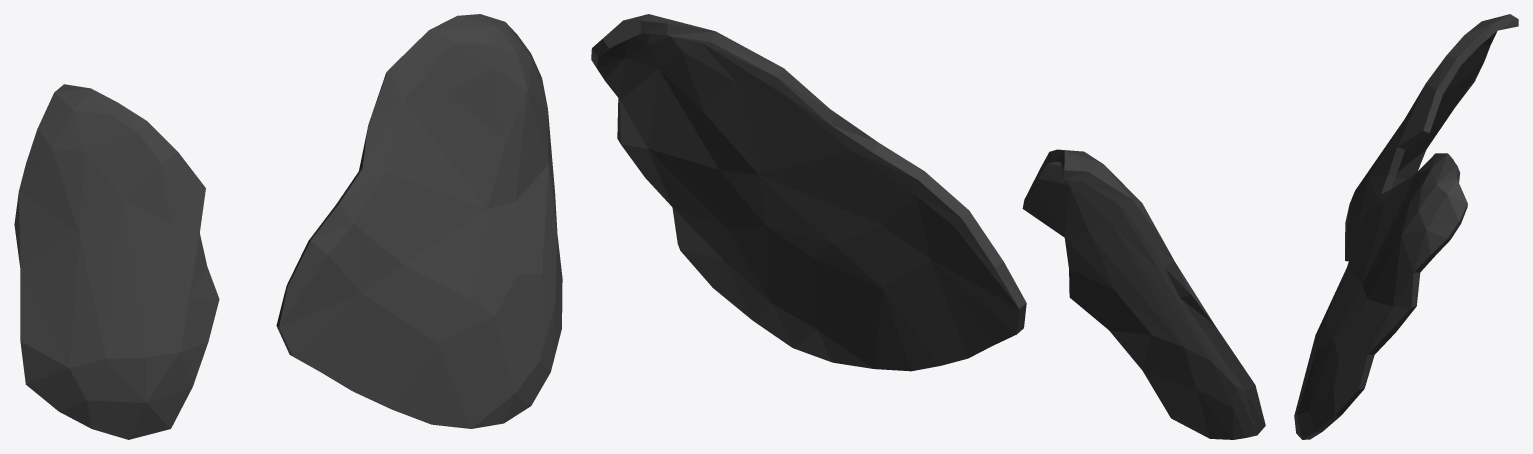
File: t6_cranial_articular_surface.glb
3 renders of one model, left to right at view 1: azimuth 30°, elevation 25°; view 2: azimuth 150°, elevation 25°; view 3: azimuth 270°, elevation 25°, orthographic. The views are drawn at different scales.
Visible parts, largest first — view 1: t6_cranial_articular_surface; view 2: t6_cranial_articular_surface; view 3: t6_cranial_articular_surface.
Boxes of the visible parts, x1,y1,x2,y2 form: t6_cranial_articular_surface: [14, 14, 562, 439]; t6_cranial_articular_surface: [591, 14, 1265, 439]; t6_cranial_articular_surface: [1294, 14, 1518, 439].
Size of the model in its own units: 14.32 by 8.52 by 6.03.
1 material, 1 textured.
